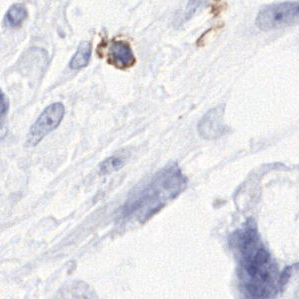Lymphocyte: (103, 35, 138, 69)
